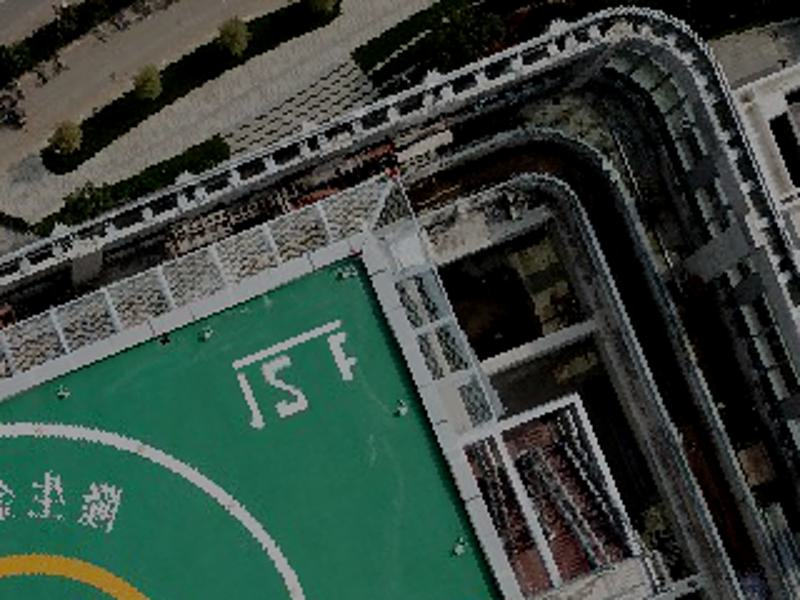Apron: (1, 546, 167, 598)
